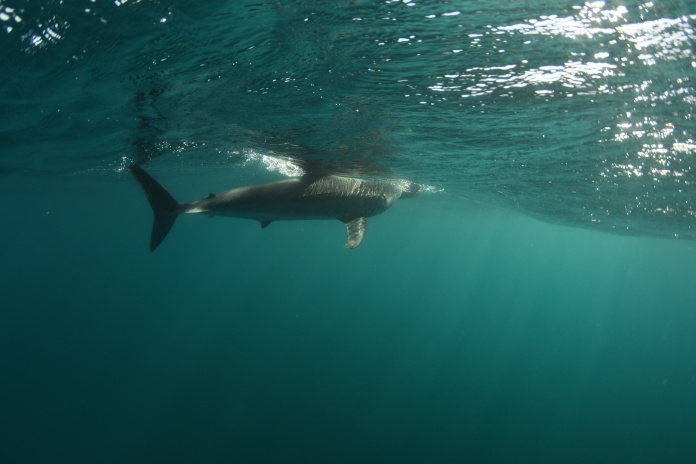Mako: (118, 152, 428, 250)
